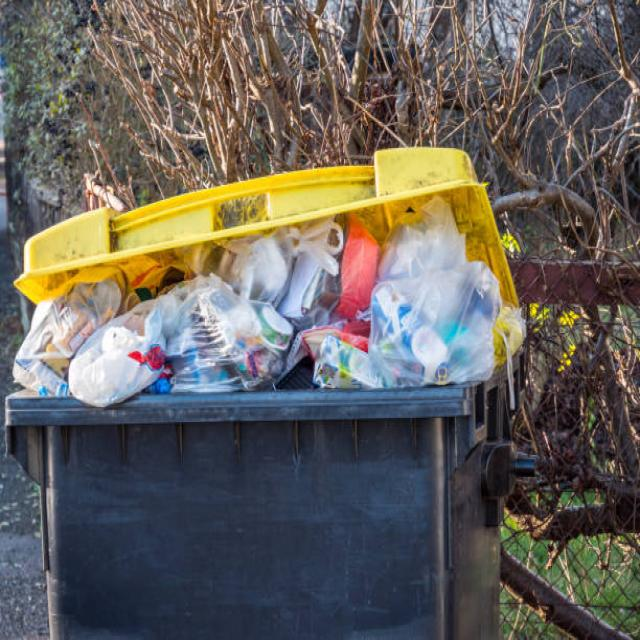trash: (26, 282, 464, 385)
